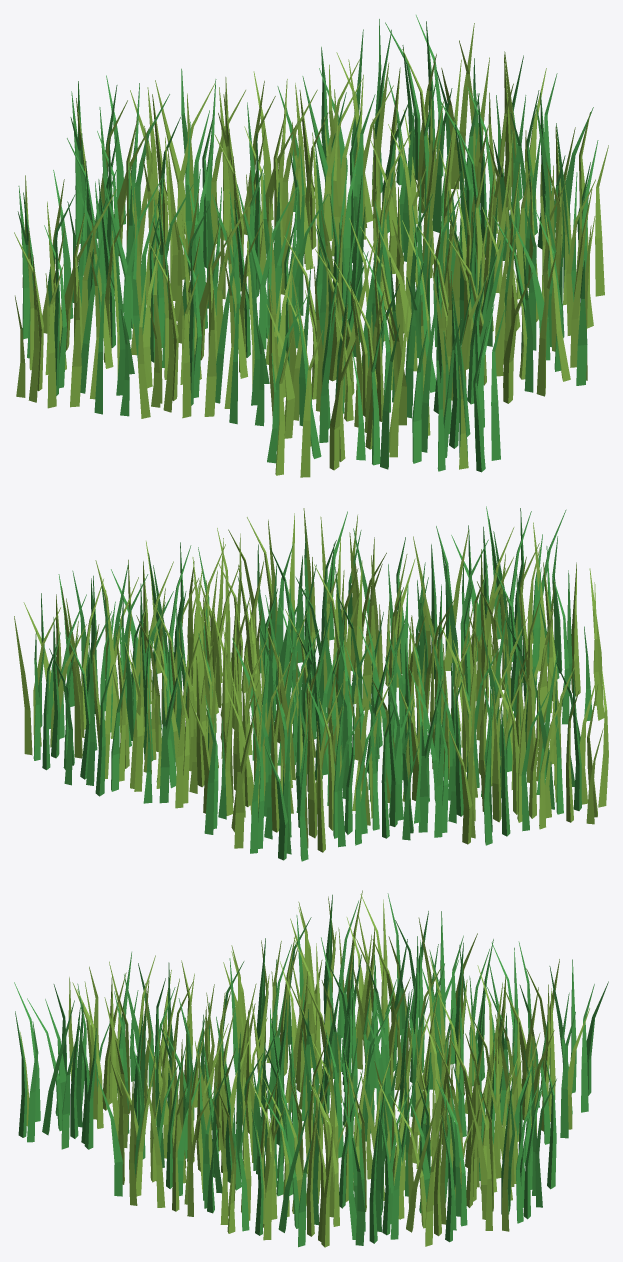
The model's file is node.007_lev3.glb.
3 renders of one model, top to bottom at view 1: azimuth 30°, elevation 25°; view 2: azimuth 150°, elevation 25°; view 3: azimuth 270°, elevation 25°, orthographic. The views are drawn at different scales.
Parts seen in each view (by area): view 1: node.007_lev3; view 2: node.007_lev3; view 3: node.007_lev3.
Part boxes in pixels (box(x1,y1,x2,y2)): node.007_lev3: box(14, 15, 608, 477); node.007_lev3: box(14, 506, 608, 861); node.007_lev3: box(14, 890, 608, 1247).
Bounding box in the file's own units: 2.78 × 0.8967 × 2.84.
